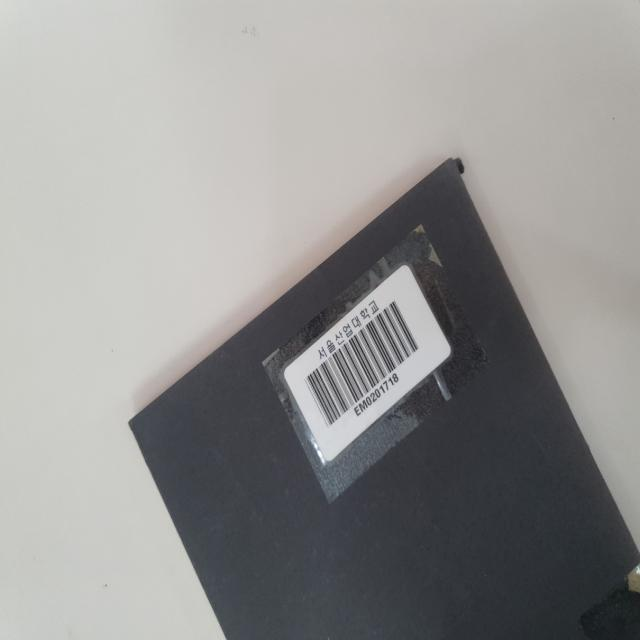Ripped: (441, 149, 471, 185)
